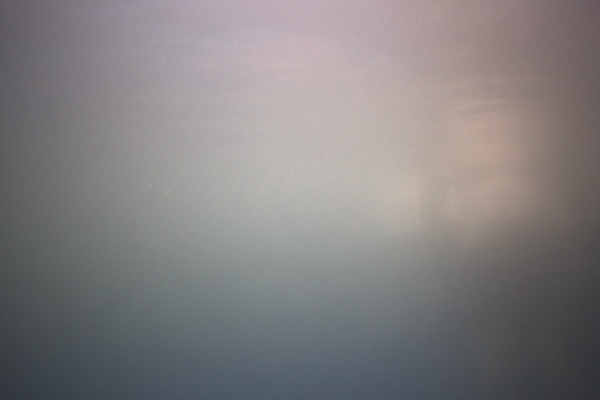gate: (0, 140, 600, 400)
gate_rouge: (99, 191, 399, 400)
